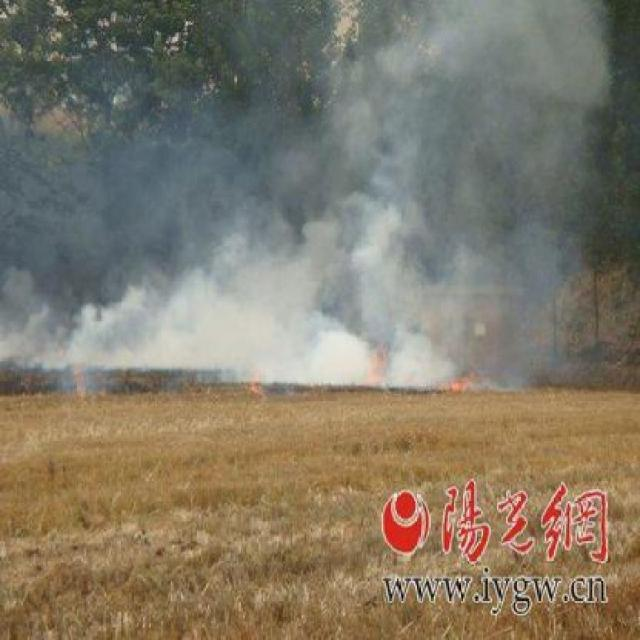Fire: (430, 361, 482, 397), (360, 335, 388, 388), (247, 366, 267, 400), (70, 364, 90, 396)
Smoke: (156, 228, 316, 364), (382, 294, 456, 384), (73, 284, 142, 362), (340, 201, 396, 284), (306, 320, 365, 372)
